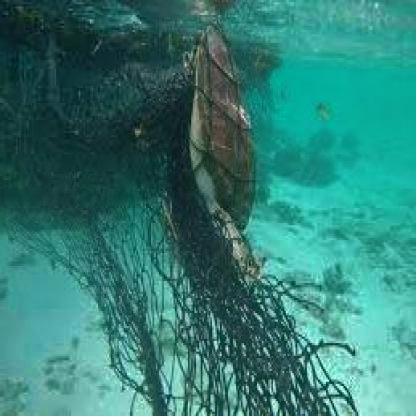net: (31, 62, 356, 414)
